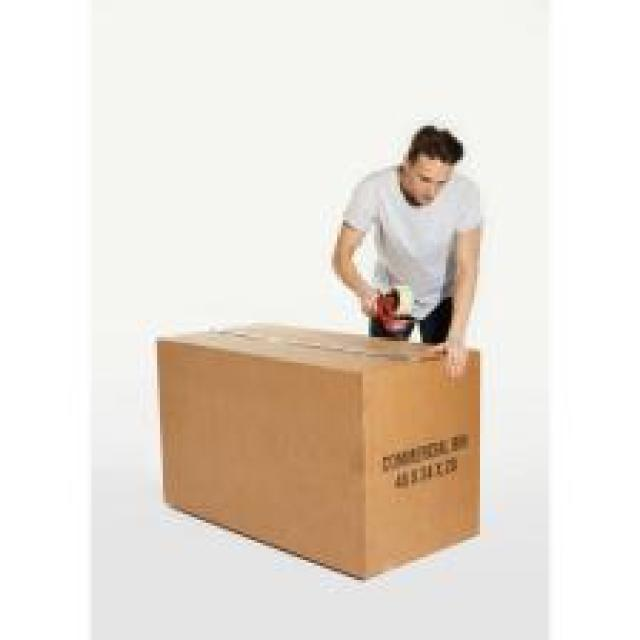box: (155, 324, 479, 584)
